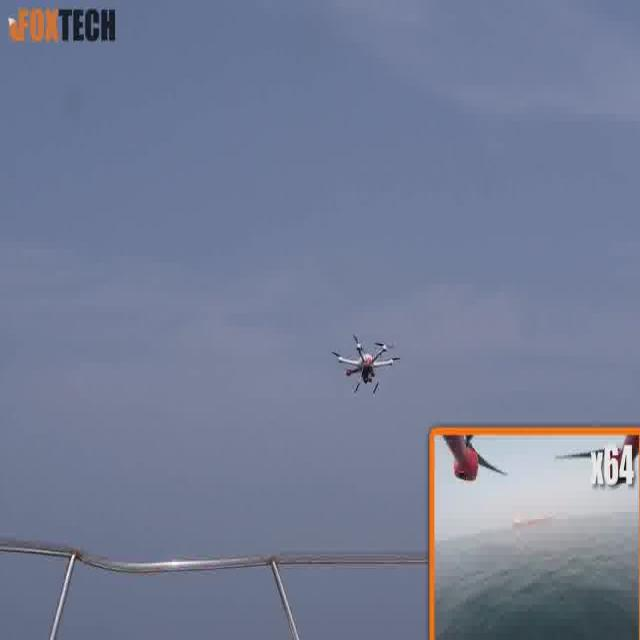Drone_FW: (334, 323, 401, 398)
